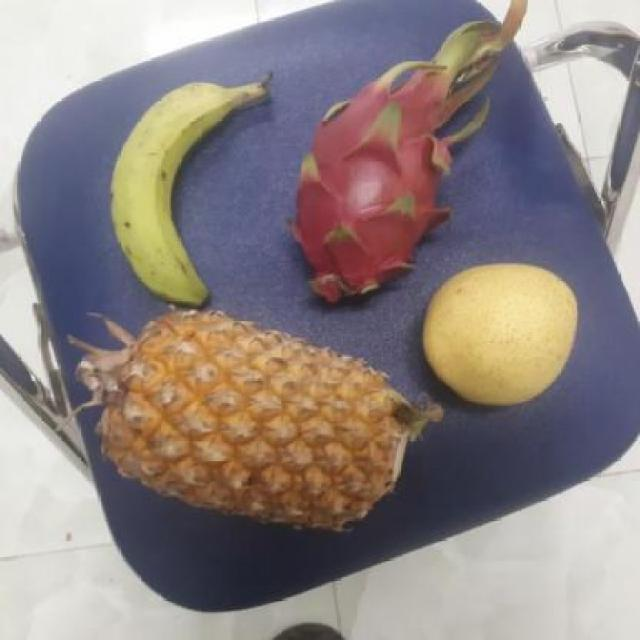banana: (104, 84, 261, 302)
dragon fruit: (284, 81, 464, 302)
pear: (422, 253, 580, 410)
pineapple: (74, 304, 418, 521)
